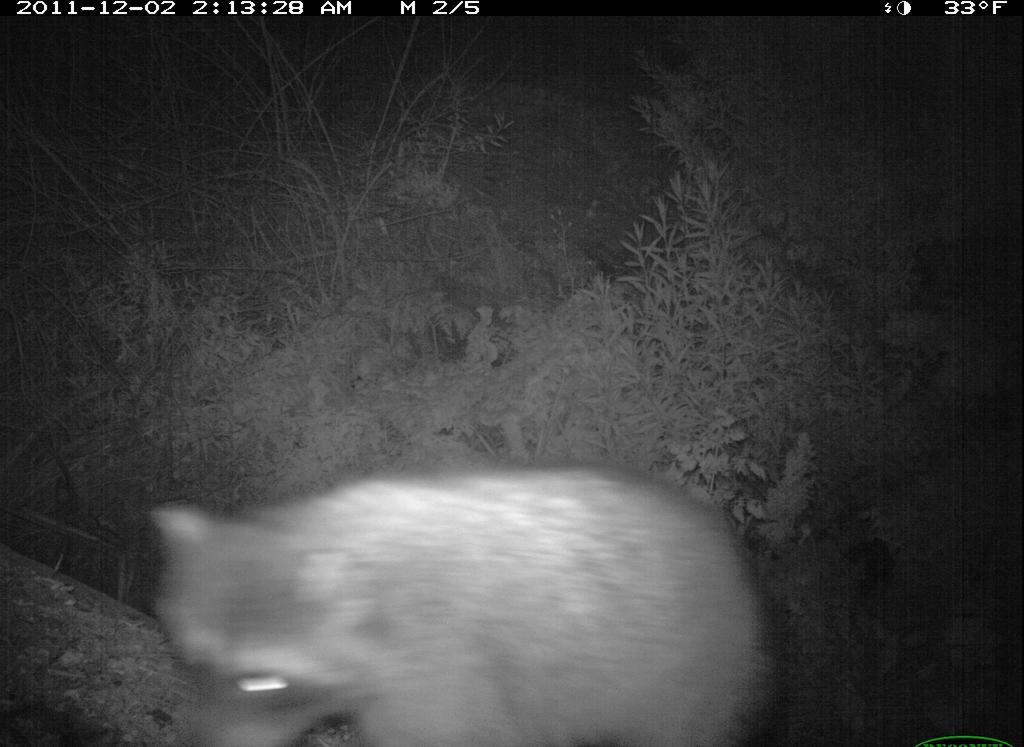raccoon: (127, 438, 792, 745)
